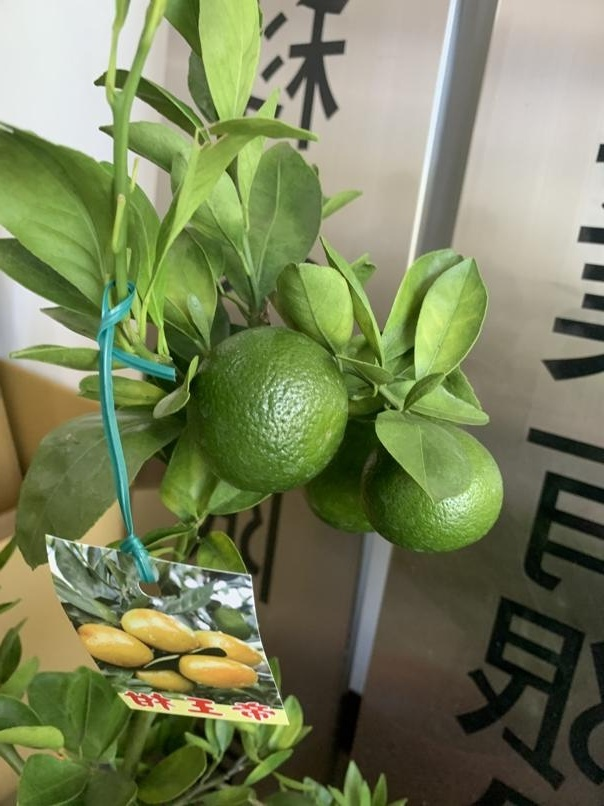Tangerine: (184, 324, 350, 489), (366, 429, 507, 553)
